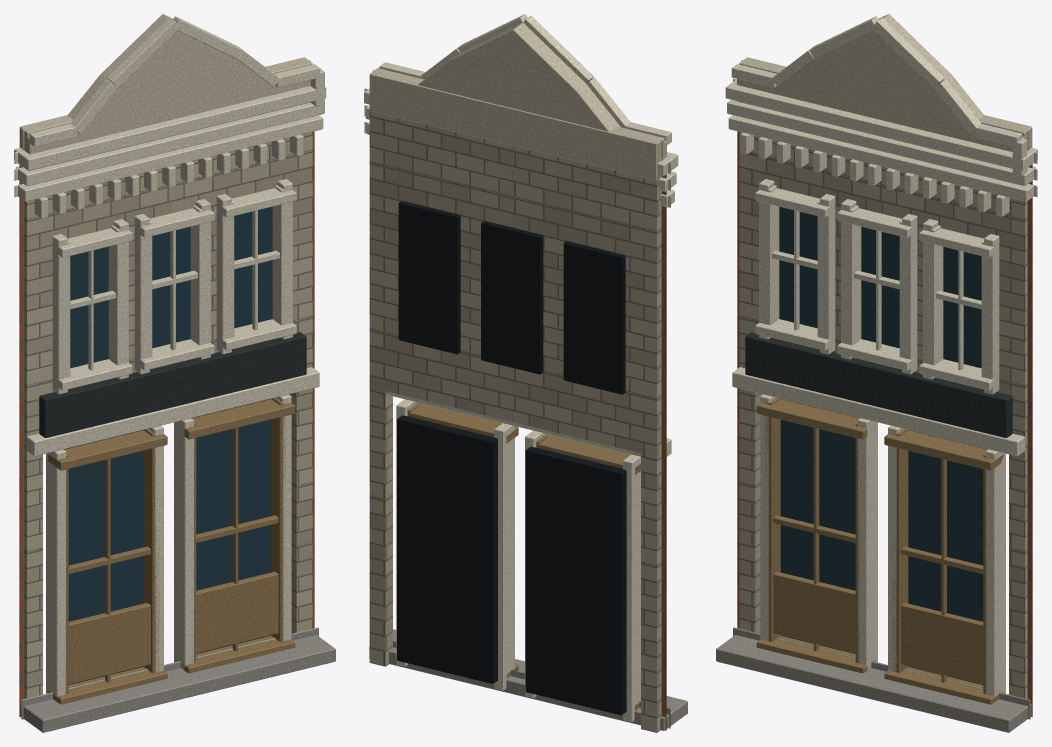
The model's file is CLSTGA16_lod1.glb.
The picture shows the model from 3 angles, left to right: view 1: azimuth 30°, elevation 25°; view 2: azimuth 150°, elevation 25°; view 3: azimuth 330°, elevation 25°; orthographic projection.
Visible parts, largest first — view 1: CLSTGA16_FRONT_LOD1; view 2: CLSTGA16_FRONT_LOD1; view 3: CLSTGA16_FRONT_LOD1.
Boxes of the visible parts, x1,y1,x2,y2 form: CLSTGA16_FRONT_LOD1: [14, 14, 335, 732]; CLSTGA16_FRONT_LOD1: [364, 14, 687, 732]; CLSTGA16_FRONT_LOD1: [716, 14, 1037, 732].
Bounding box in the file's own units: 3.84 × 8.05 × 0.68.
10 materials, 8 textured.
